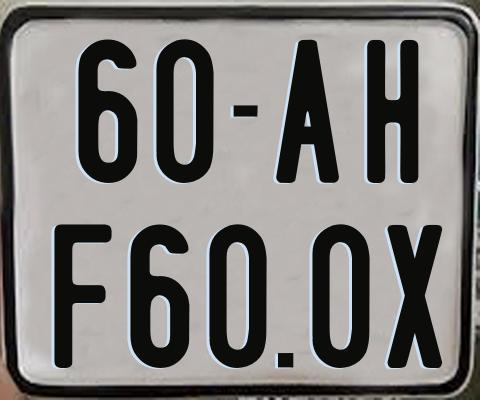0: (154, 38, 218, 187), (207, 221, 270, 369), (311, 221, 370, 370)
6: (128, 221, 193, 369), (76, 36, 140, 182)
A: (273, 38, 342, 184)
F: (52, 221, 111, 367)
H: (366, 39, 418, 185)
X: (385, 224, 442, 373)
